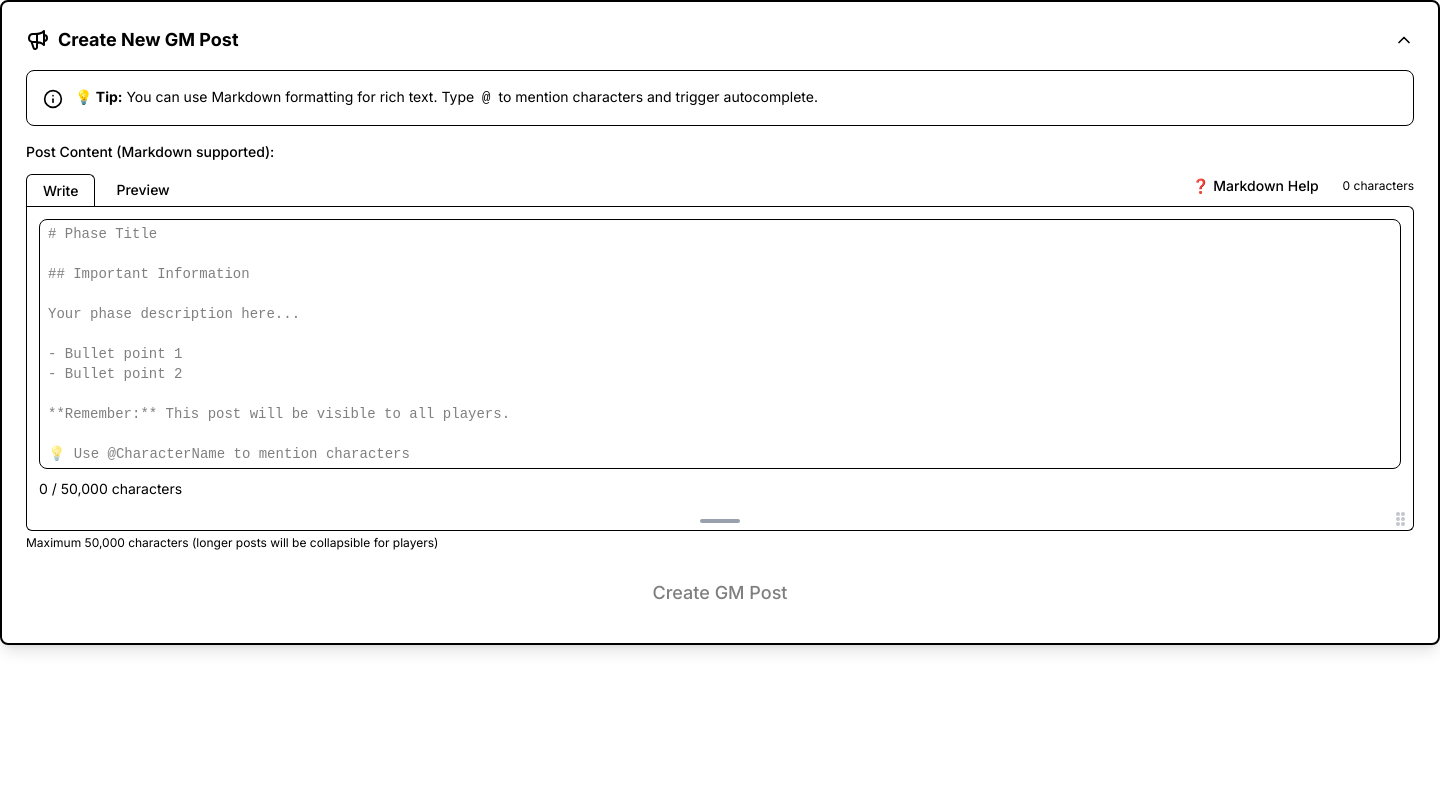
it: CreatePostForm › Error Handling › displays error message when submission fails
The image size is (1440, 810).
Step 1. Type "Test content" into the text box labelled "Post Content (Markdown supported):" → coordinates (720, 344), box top-left (39, 219), bottom-right (1401, 469)
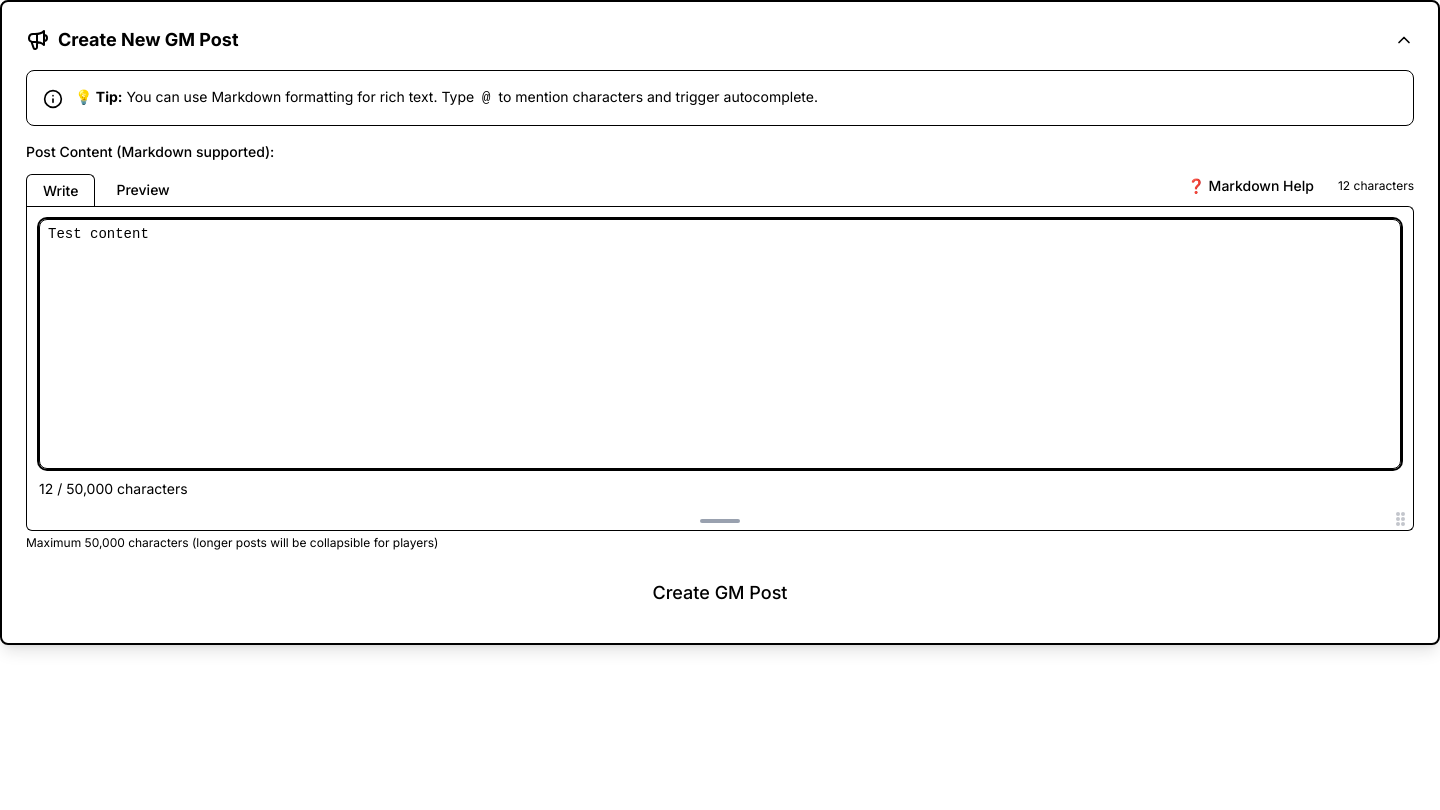
Step 2. Click the button "Create GM Post" → coordinates (720, 593), box top-left (26, 567), bottom-right (1414, 619)
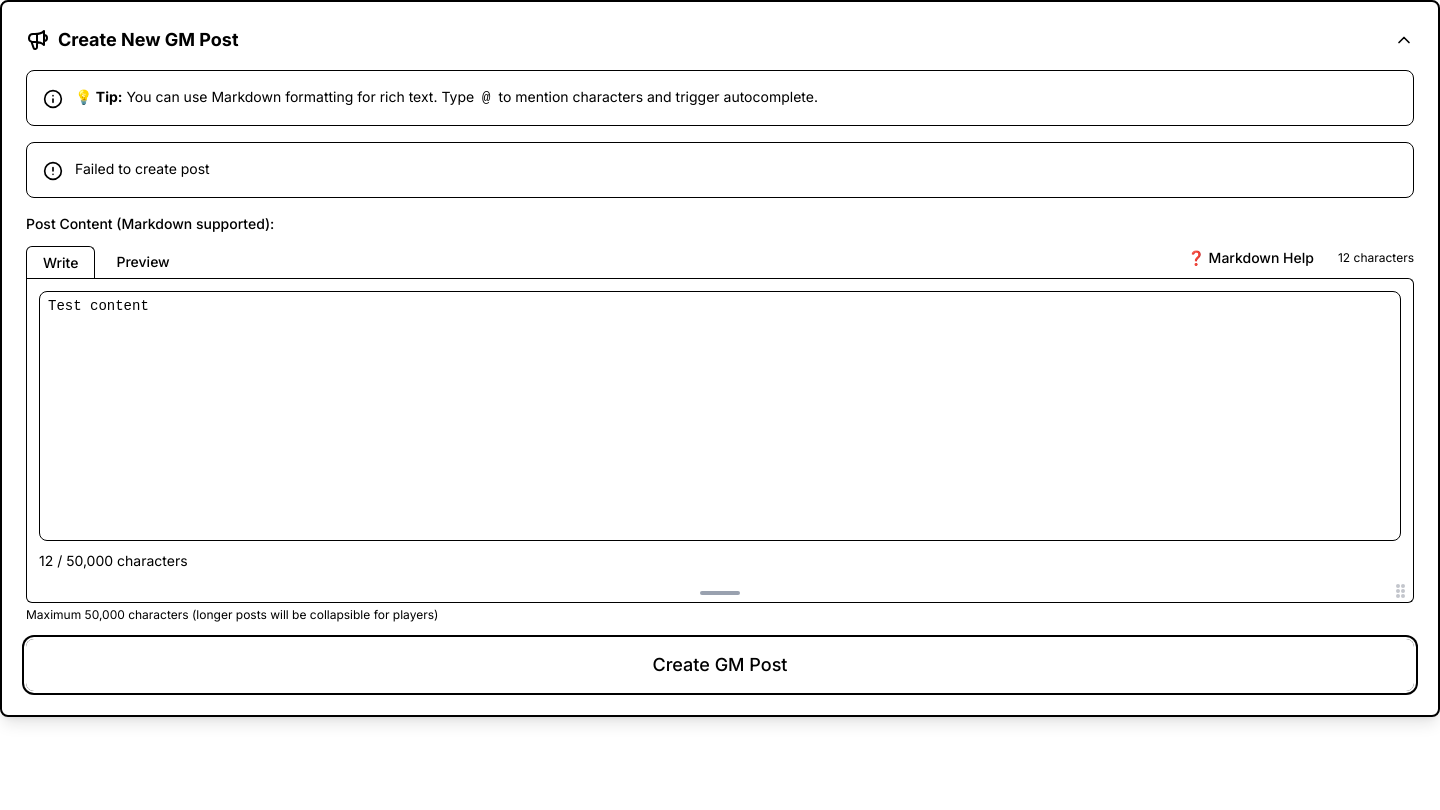
Check: the text "Failed to create post" is shown, box top-left (75, 160), bottom-right (210, 177)
